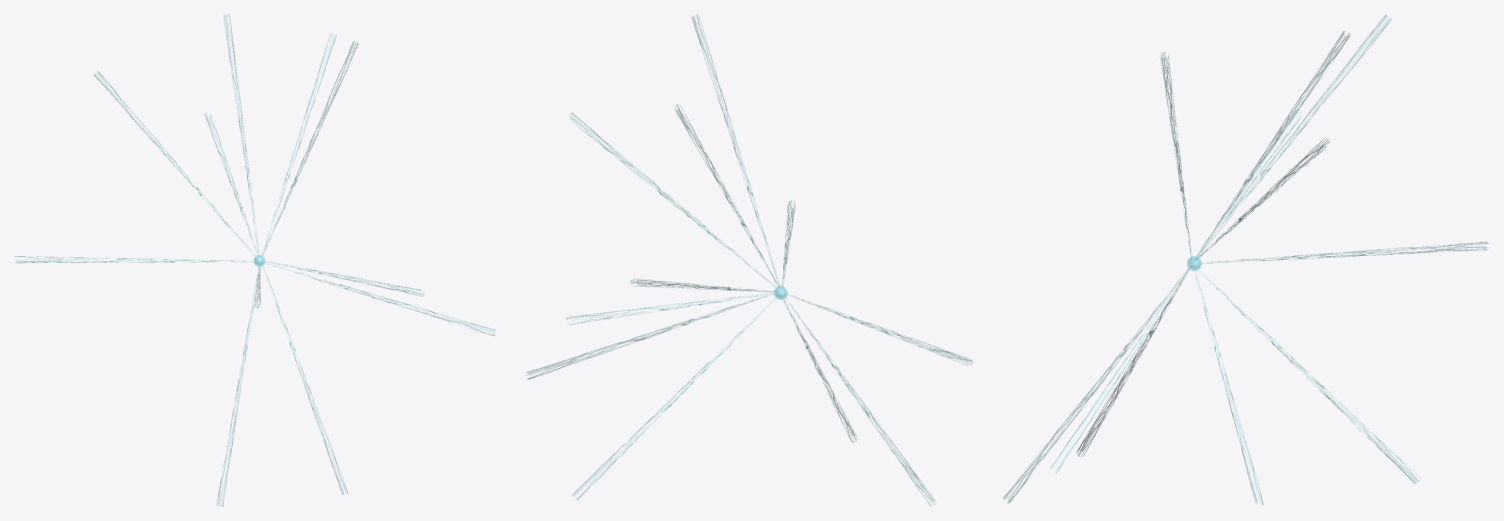
Rendered from kamehameha_charging_src.glb.
3 views of the same model, side by side, from view 1: azimuth 30°, elevation 25°; view 2: azimuth 150°, elevation 25°; view 3: azimuth 270°, elevation 25° (orthographic). The views are drawn at different scales.
Visible parts, largest first — view 1: Cylinder_1; view 2: Cylinder_1; view 3: Cylinder_1.
Part boxes in pixels (x1,y1,x2,y2): Cylinder_1: (14,14,496,506); Cylinder_1: (525,14,973,506); Cylinder_1: (1003,14,1488,506).
Bounding box in the file's own units: 4.79 × 4.65 × 4.05.
Materials: 2 (2 with a texture image).
